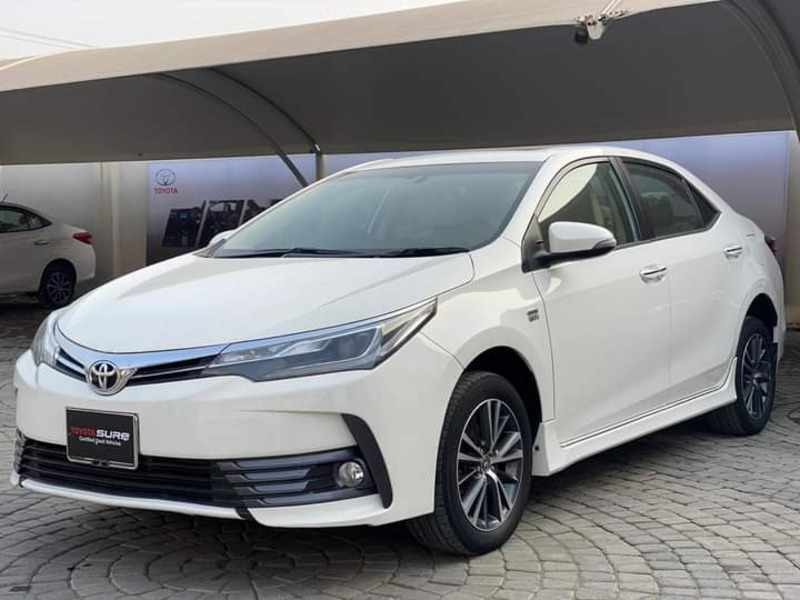License Plate: (59, 402, 145, 473)
